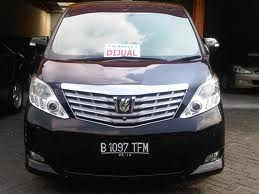plate: (100, 140, 150, 157)
